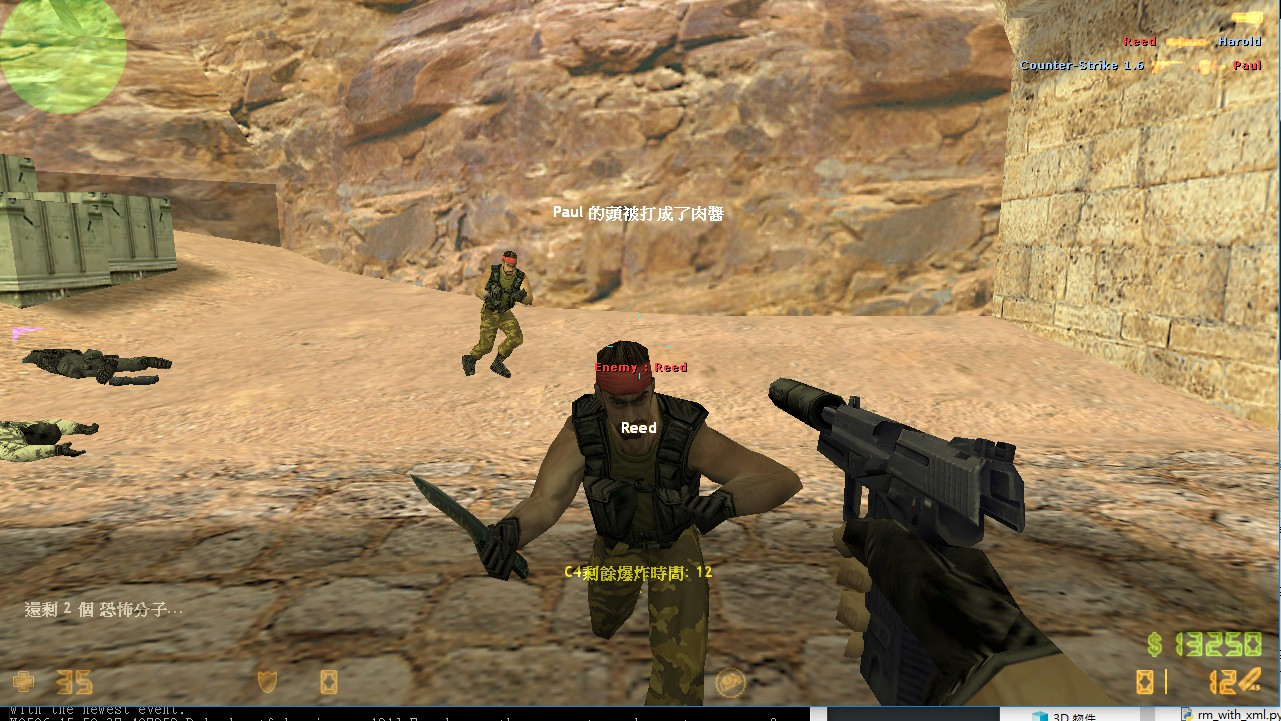person: (459, 238, 532, 387)
